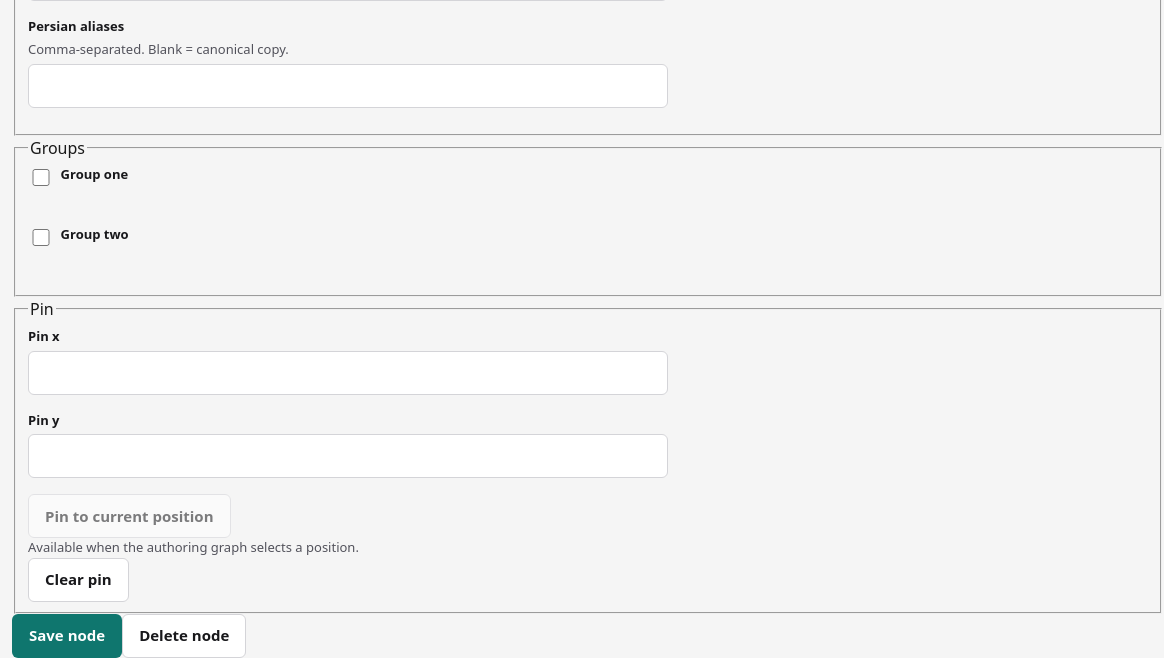
Scenario: NodeForm (Plan B Task 11) › disambiguates a stale revision conflict
(page scrolled)
Click the button "Save node" at (67, 636), box [12, 614, 122, 657]
(page scrolled)
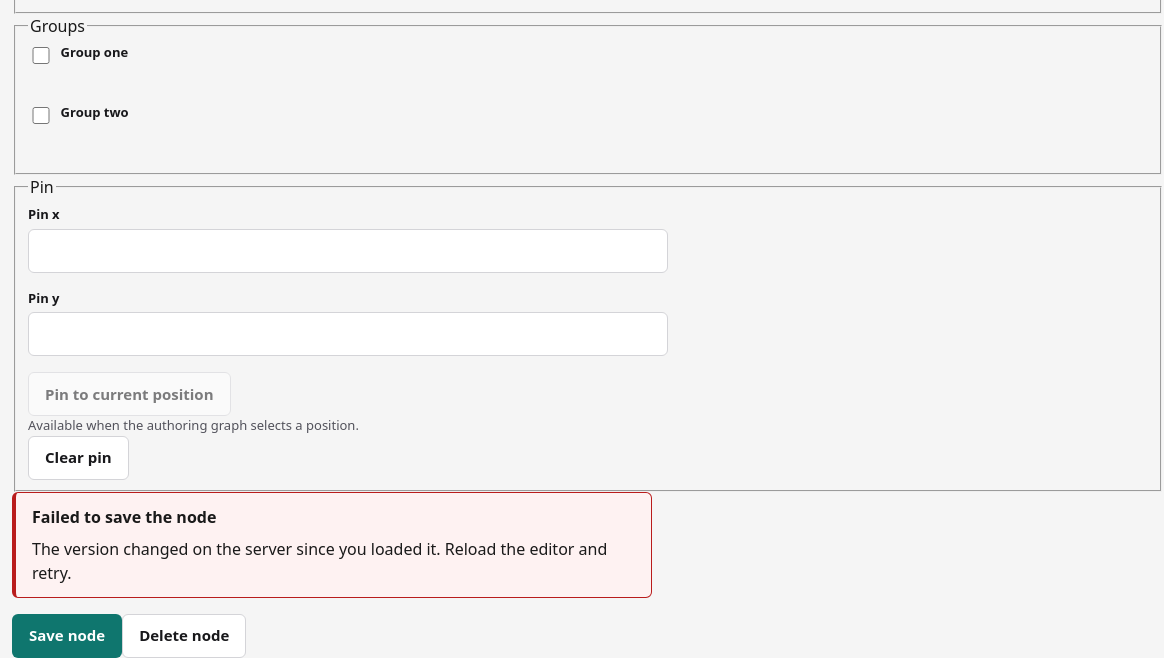
Expected: the text "changed on the server" is shown, [32, 538, 607, 584]
